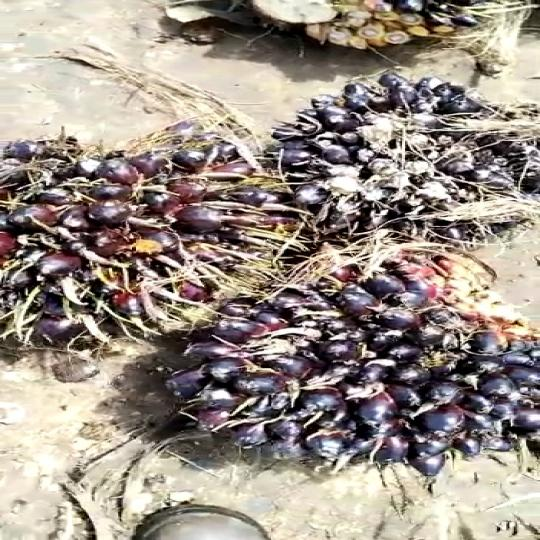mentah: (130, 251, 540, 482), (0, 125, 291, 361), (265, 74, 540, 282)
